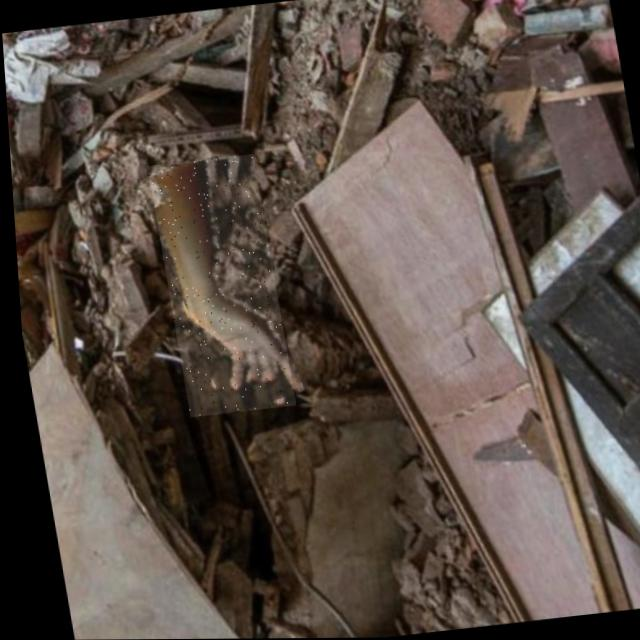Person in Rubble: (144, 152, 291, 416)
